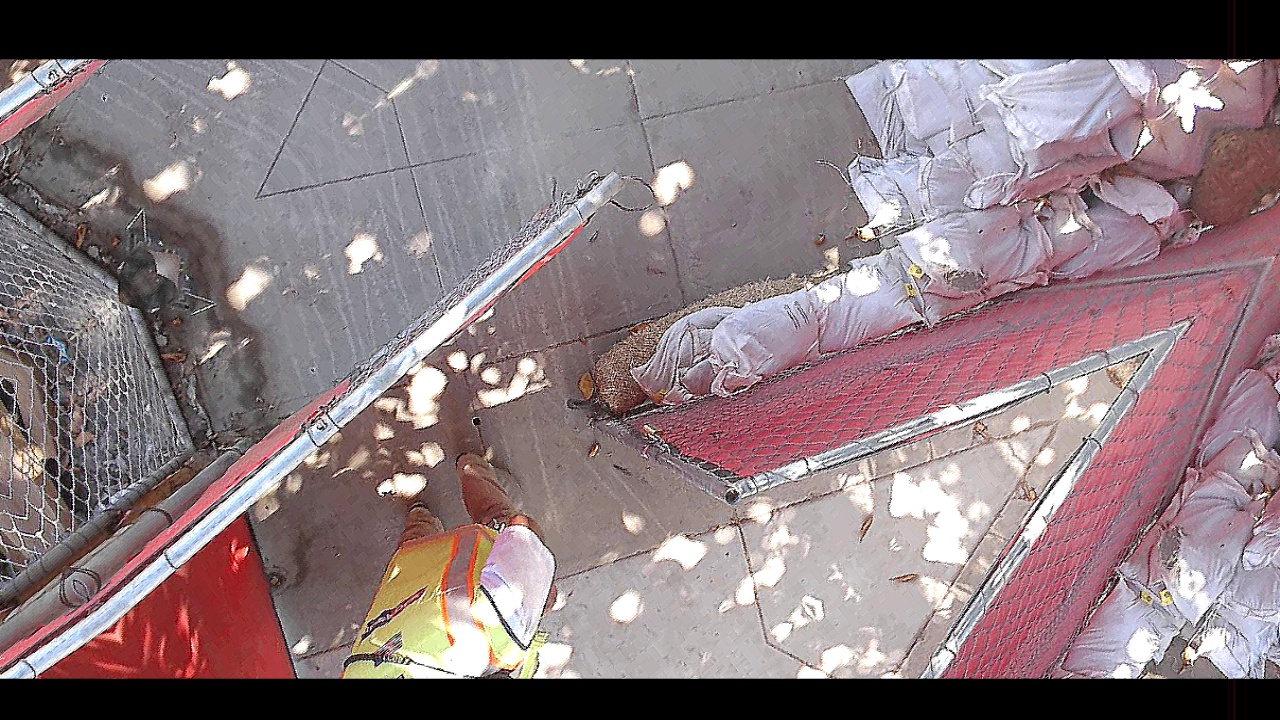person: (364, 454, 567, 679)
safetyvest: (339, 519, 607, 674)
